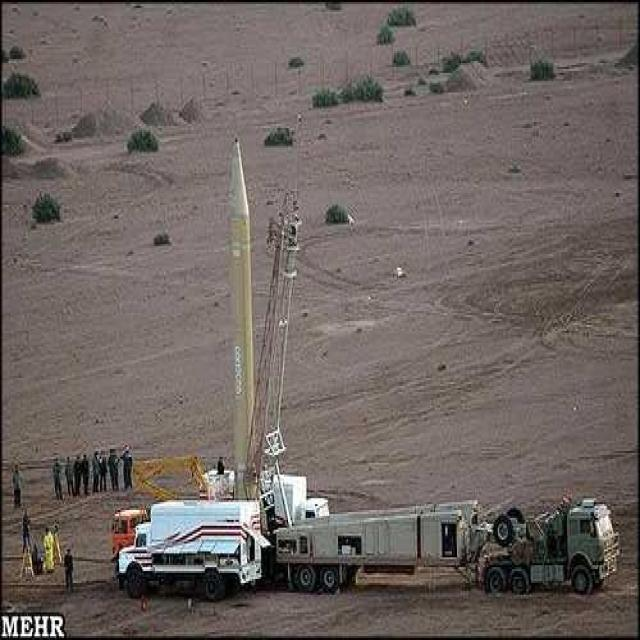missile: (223, 129, 273, 504)
